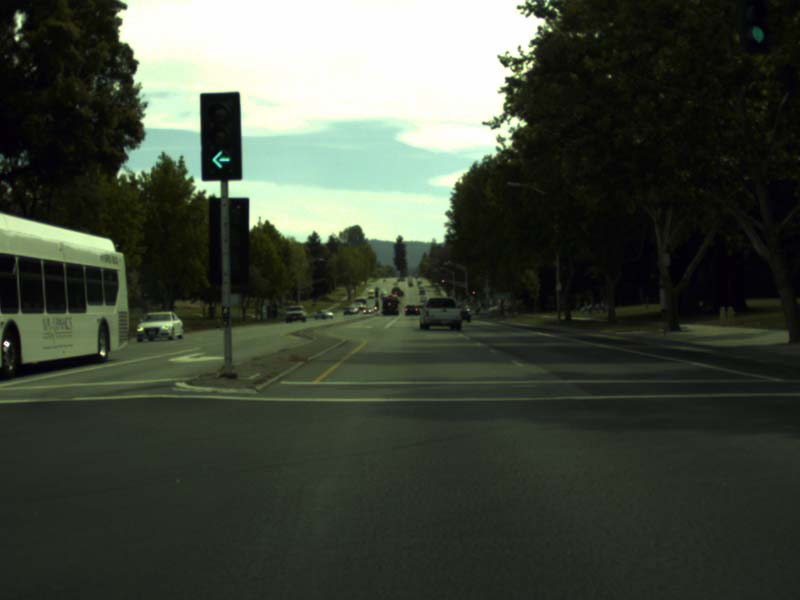Green: (203, 93, 238, 178)
